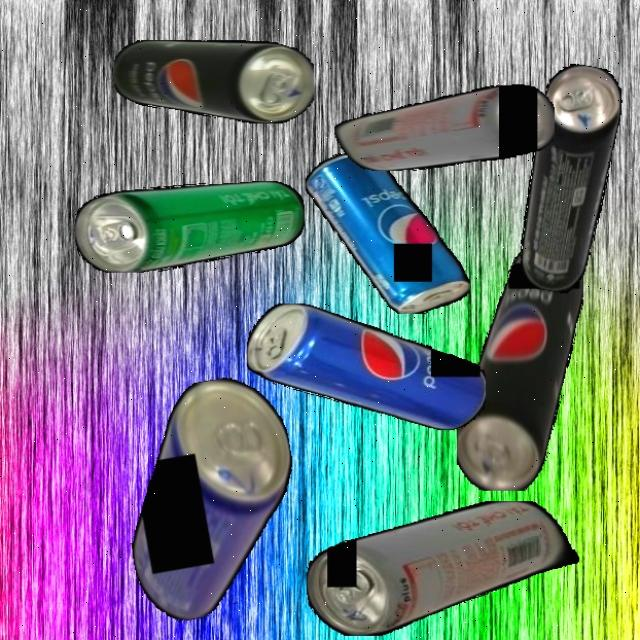debris: (106, 369, 316, 626), (307, 500, 579, 636), (456, 242, 583, 491), (246, 304, 486, 430), (510, 60, 628, 297), (306, 152, 470, 314), (75, 180, 305, 273), (333, 84, 554, 171), (113, 40, 314, 124)
